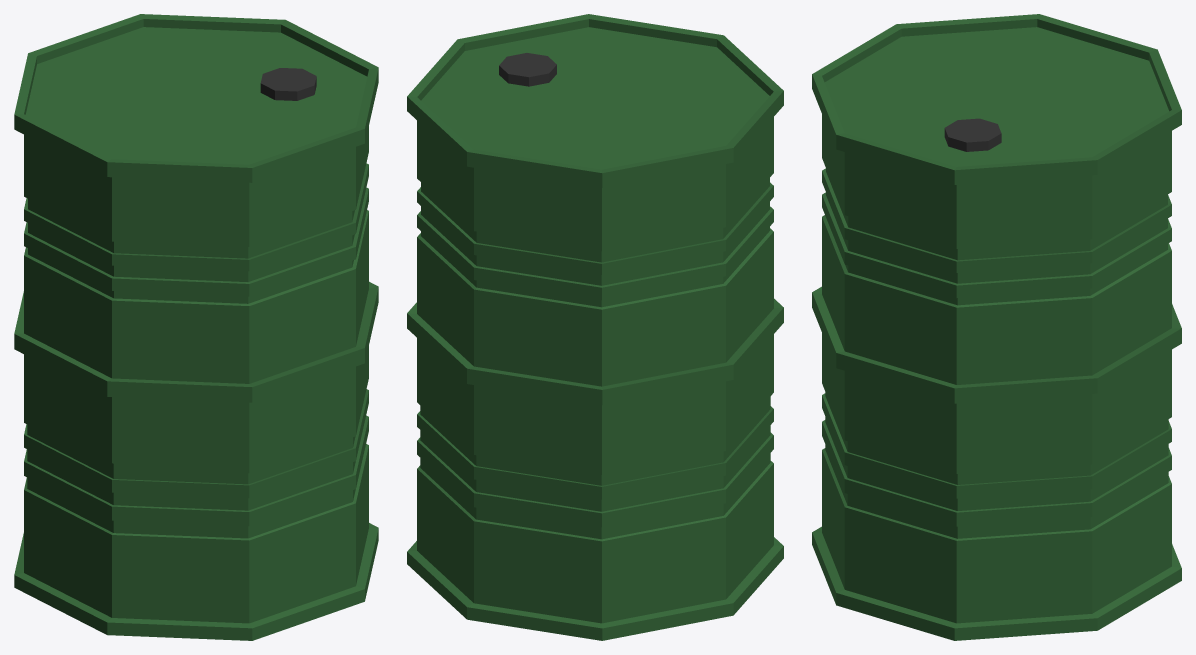
Rendered from Barrel.fbx.
The picture shows the model from 3 angles, left to right: view 1: azimuth 30°, elevation 25°; view 2: azimuth 150°, elevation 25°; view 3: azimuth 270°, elevation 25°; orthographic projection.
Visible parts, largest first — view 1: pCylinder17, pCylinder18; view 2: pCylinder17, pCylinder18; view 3: pCylinder17, pCylinder18.
Boxes of the visible parts, <box> form: pCylinder17: <box>14,14,378,640</box>; pCylinder18: <box>260,68,316,100</box>; pCylinder17: <box>407,14,783,640</box>; pCylinder18: <box>499,53,556,86</box>; pCylinder17: <box>812,14,1181,640</box>; pCylinder18: <box>944,118,1001,151</box>.
Size of the model in its own units: 3.23 by 4.54 by 3.23.
